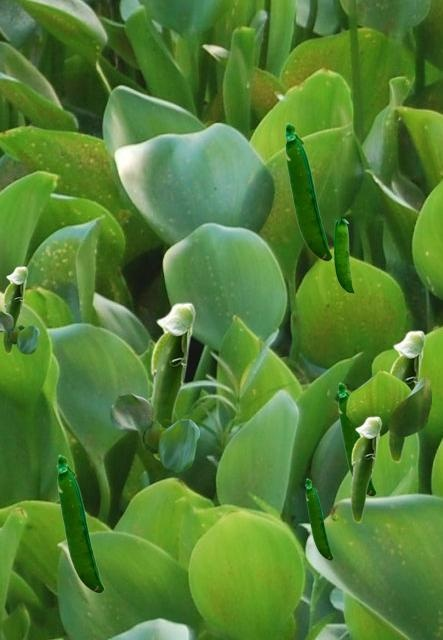pea: (149, 302, 195, 460), (284, 122, 331, 260), (56, 454, 103, 592), (387, 330, 425, 462), (337, 382, 375, 495), (350, 416, 381, 522), (305, 478, 332, 559), (2, 266, 27, 353), (334, 219, 353, 293)
